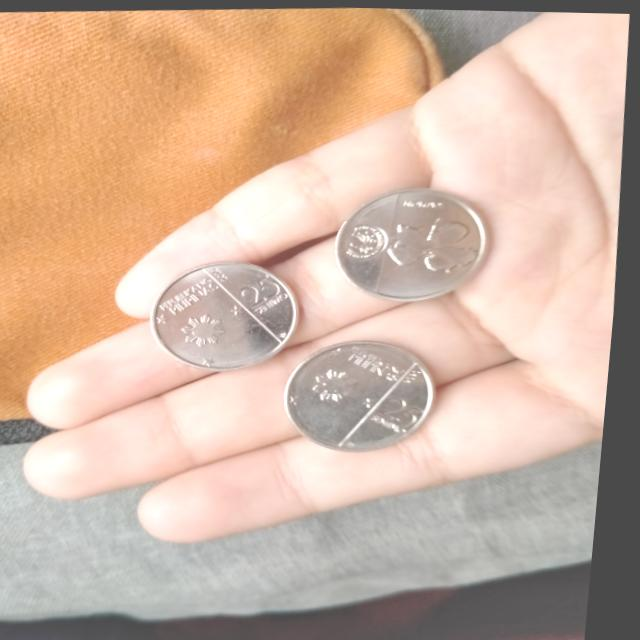25Cent_New_Back: (381, 202, 488, 289)
25Cent_New_Front: (372, 384, 449, 432), (241, 271, 292, 312)
